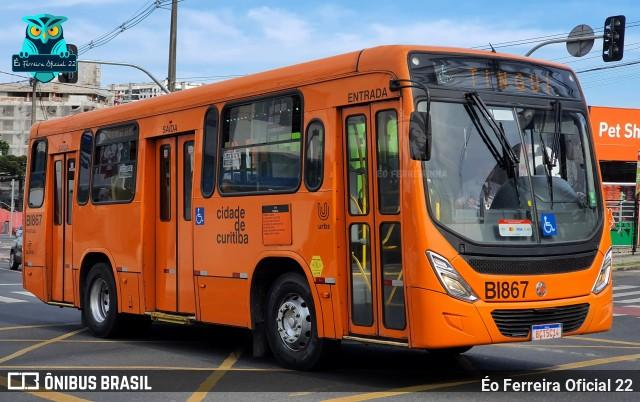TINGUI: (465, 63, 557, 98)
